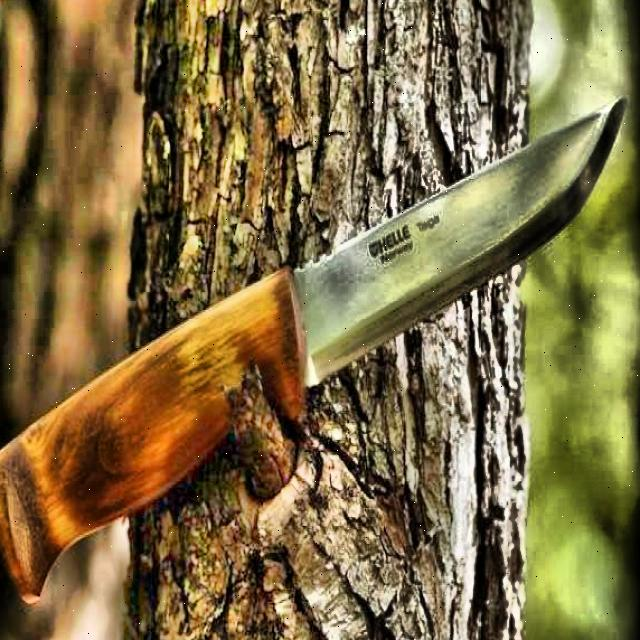knife: (0, 94, 624, 598)
